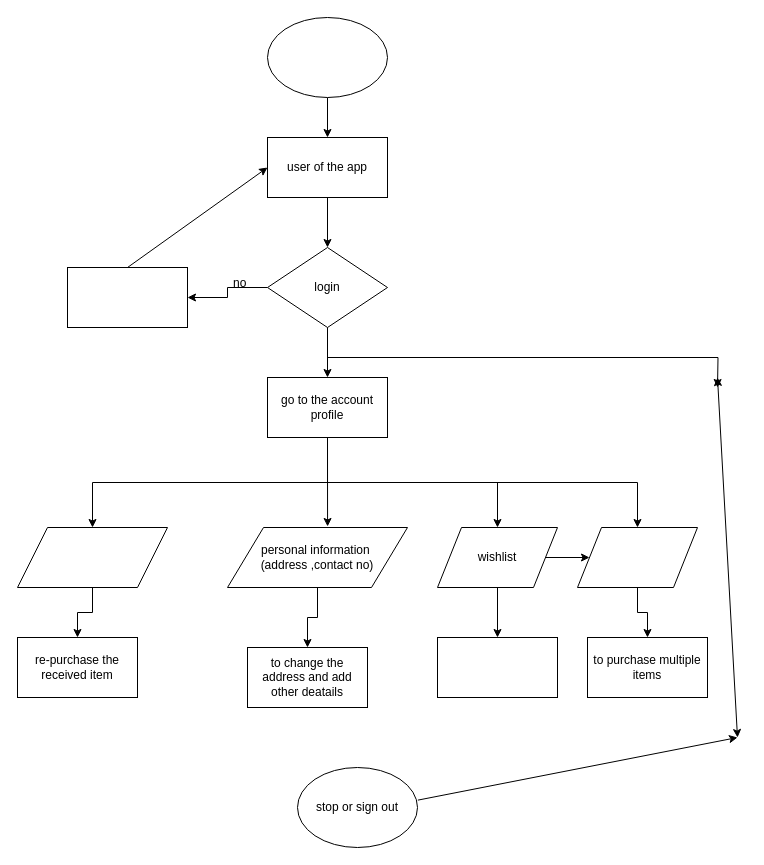
Some shapes in this 764 by 865 pixel diagram are drawn without their labels. The box of each missing label's shape, as (x1, y1, x2, y2) in pixels:
previous orders: (16, 526, 168, 588)
register: (66, 266, 188, 328)
start: (266, 16, 388, 98)
user cart: (576, 526, 698, 588)
view the item you love: (436, 636, 558, 698)
